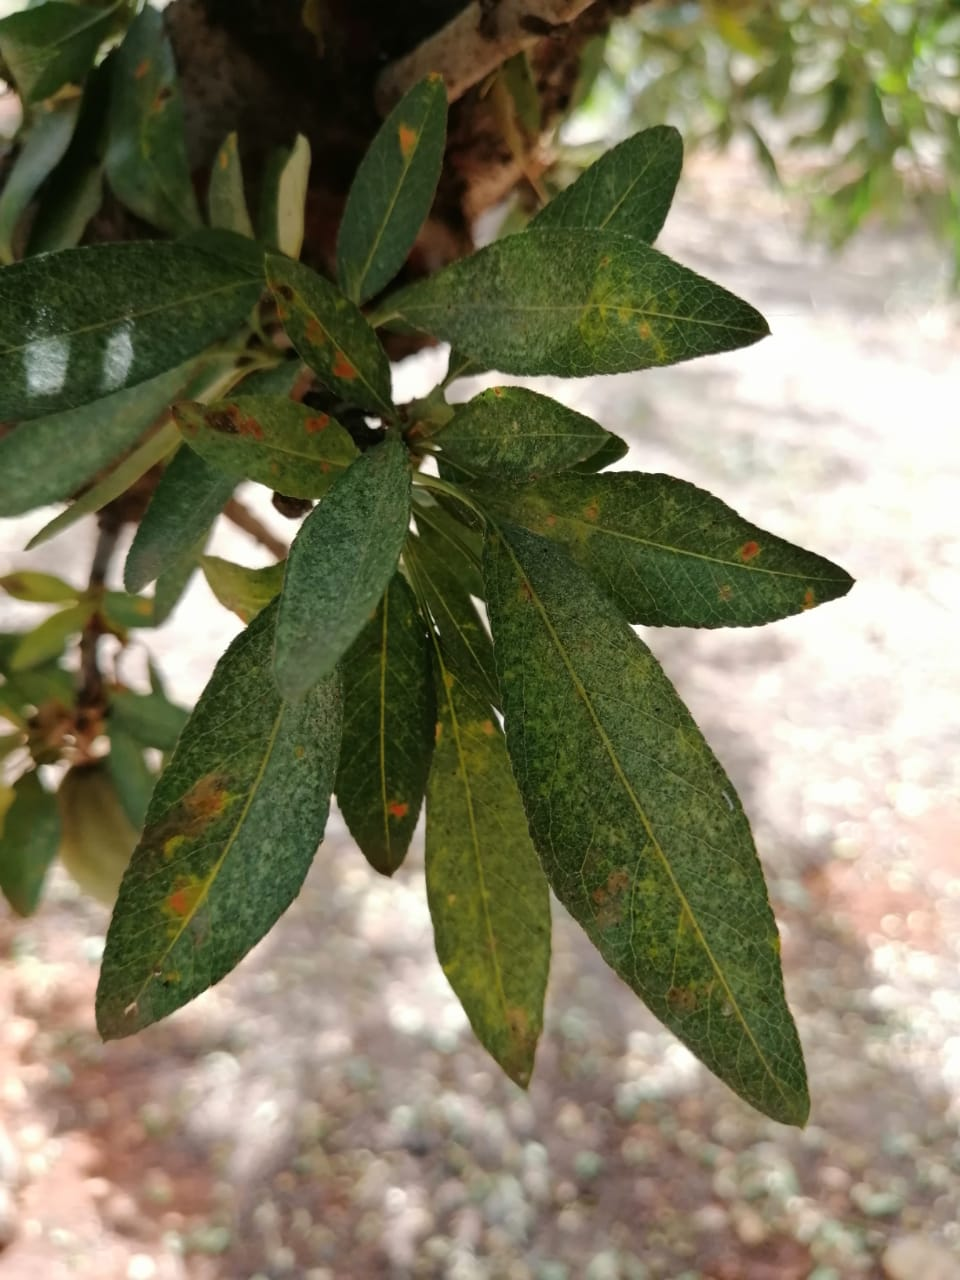acariens: (480, 518, 814, 1129), (392, 225, 772, 381), (1, 237, 267, 425), (269, 425, 415, 707), (428, 384, 611, 475)
